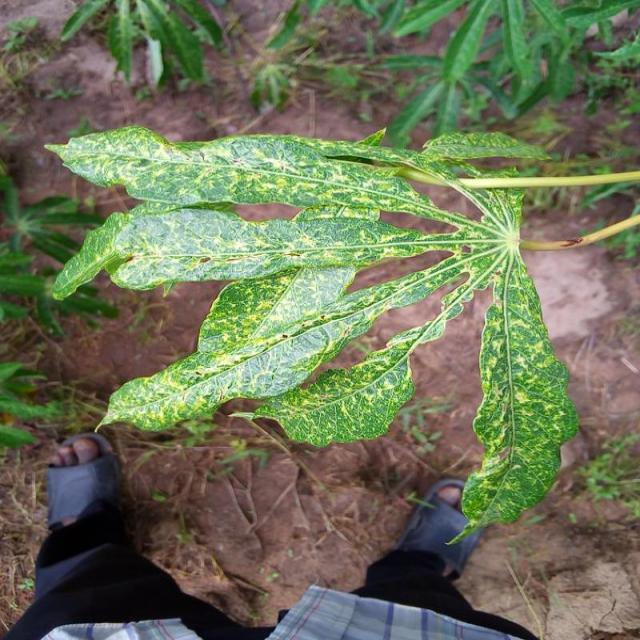cassava leaf: (44, 120, 638, 541)
